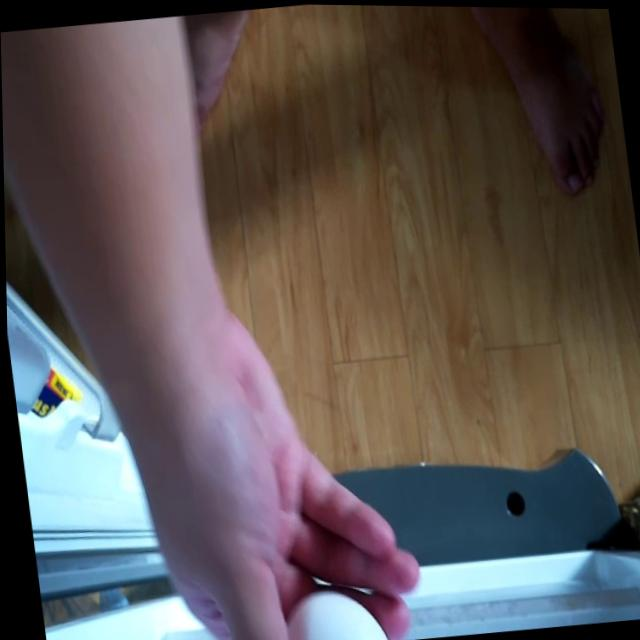egg: (281, 582, 381, 640)
